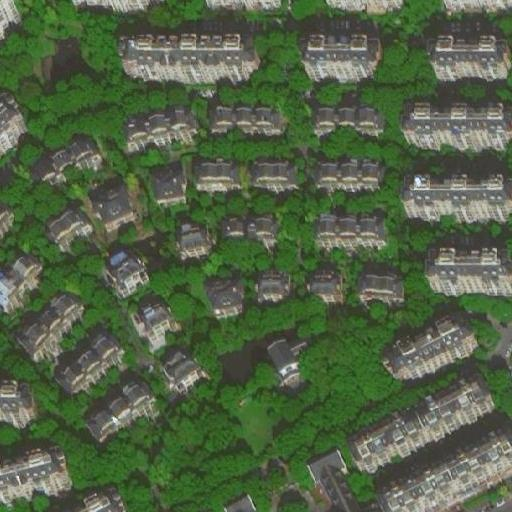building: (353, 380, 500, 476), (385, 429, 512, 511), (385, 318, 474, 378), (126, 39, 256, 77), (52, 328, 124, 390), (84, 377, 155, 435), (308, 448, 369, 511), (30, 137, 103, 187), (15, 293, 77, 351), (414, 117, 512, 152), (410, 185, 512, 217), (433, 258, 512, 296), (0, 454, 67, 497), (433, 39, 508, 75), (129, 108, 204, 142), (307, 41, 381, 75), (312, 105, 388, 135), (322, 214, 393, 246), (105, 250, 151, 294), (213, 106, 287, 133), (95, 182, 139, 226), (46, 207, 92, 248), (320, 159, 387, 185), (161, 347, 201, 388), (1, 255, 37, 300), (208, 276, 247, 315), (155, 167, 194, 206), (138, 298, 175, 337), (267, 335, 303, 374), (357, 269, 406, 297), (62, 489, 120, 512), (223, 212, 271, 239), (252, 159, 300, 185), (200, 162, 245, 189), (179, 224, 215, 255), (312, 269, 348, 297), (259, 271, 291, 298), (0, 386, 27, 417), (0, 97, 17, 141)
